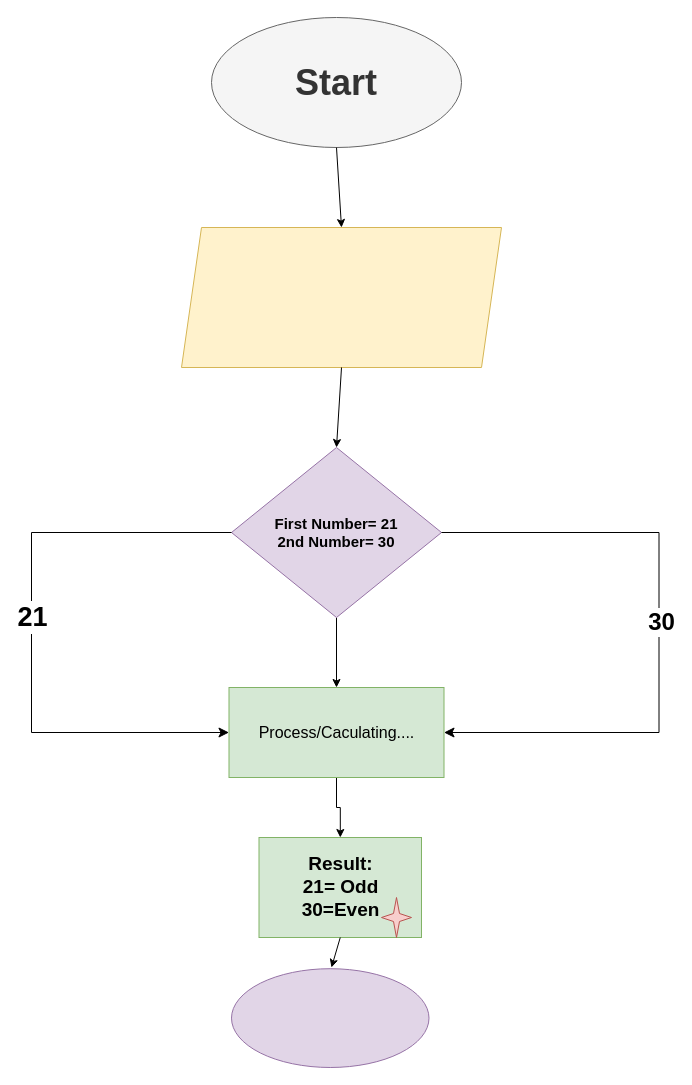
This 692x1085 diagram has some shape labels left out. The centre of each missing label's shape, as x and y in pixels:
"Apply/Paste 2 numbers to determine which is odd or even" belongs at [341,297].
"End" belongs at [329,1018].
